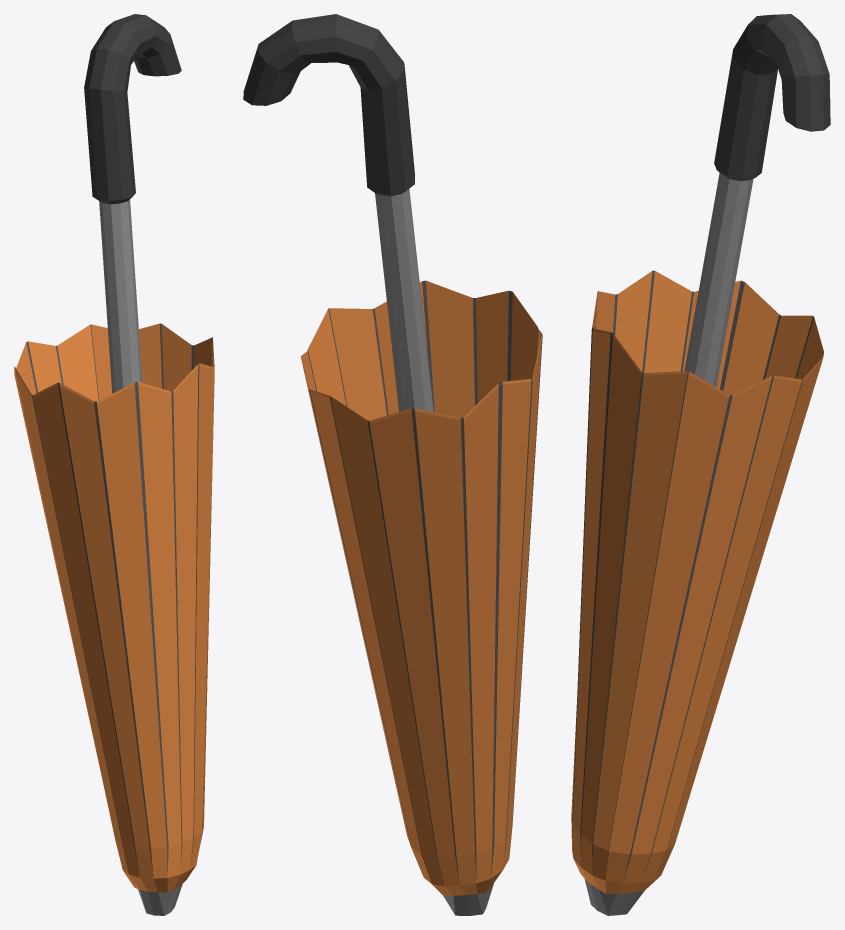
The model's file is Closed_Umbrella_231109.glb.
3 views of the same model, side by side, from view 1: azimuth 30°, elevation 25°; view 2: azimuth 150°, elevation 25°; view 3: azimuth 270°, elevation 25° (orthographic). The views are drawn at different scales.
Visible parts, largest first — view 1: Closed_Umbrella; view 2: Closed_Umbrella; view 3: Closed_Umbrella.
Boxes of the visible parts, x1,y1,x2,y2 form: Closed_Umbrella: [14, 14, 214, 915]; Closed_Umbrella: [243, 14, 542, 915]; Closed_Umbrella: [571, 14, 830, 915].
Bounding box in the file's own units: 0.2936 × 1.17 × 0.2996.
1 material, 1 textured.
